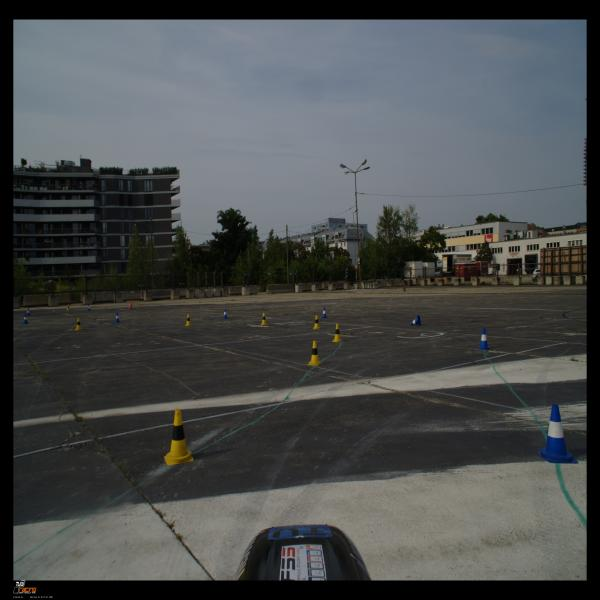blue_cone: (537, 404, 579, 464), (477, 328, 491, 350), (410, 316, 422, 326), (22, 314, 29, 324), (114, 312, 120, 323), (222, 309, 228, 319), (322, 308, 327, 318), (26, 308, 31, 316), (87, 305, 91, 311)
orange_cone: (128, 302, 132, 309), (131, 300, 133, 306)
yellow_cone: (164, 409, 194, 466), (307, 340, 323, 366), (332, 324, 344, 343), (312, 315, 320, 330), (74, 318, 83, 330), (260, 313, 268, 325), (184, 314, 192, 326), (66, 304, 70, 311)
